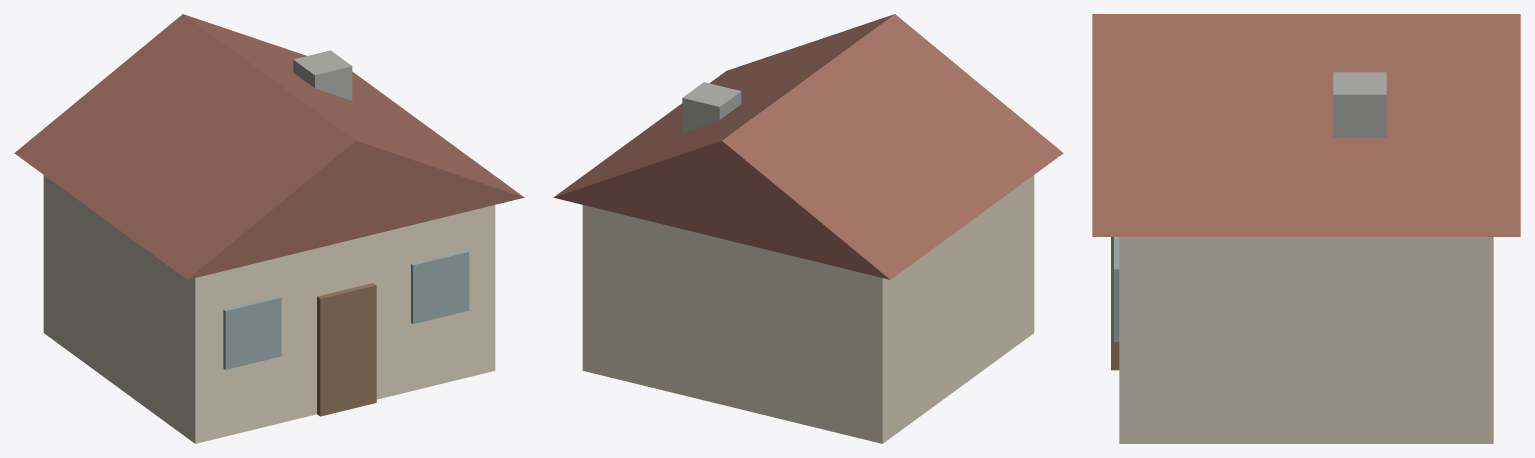
The model's file is SM_House.fbx.
3 views of the same model, side by side, from view 1: azimuth 30°, elevation 25°; view 2: azimuth 150°, elevation 25°; view 3: azimuth 270°, elevation 25° (orthographic). The views are drawn at different scales.
Parts seen in each view (by area): view 1: SM_House; view 2: SM_House; view 3: SM_House.
Boxes of the visible parts, bbox=[...] form: SM_House: bbox=[14, 14, 524, 443]; SM_House: bbox=[553, 14, 1063, 443]; SM_House: bbox=[1092, 14, 1520, 443].
Size of the model in its own units: 1800 by 1400 by 1600.
